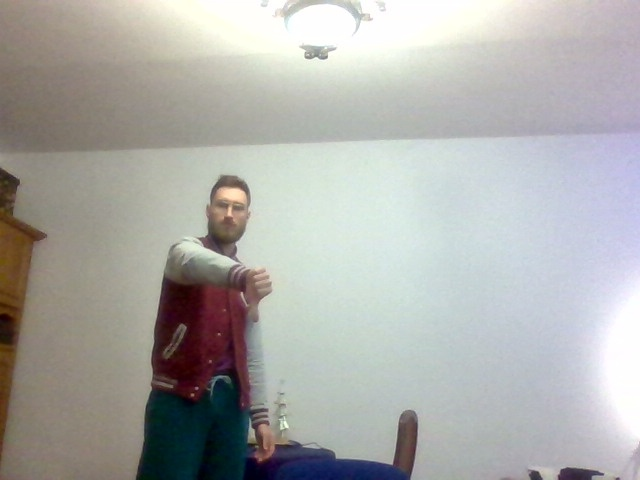ThumbsDown: (247, 267, 272, 323)
